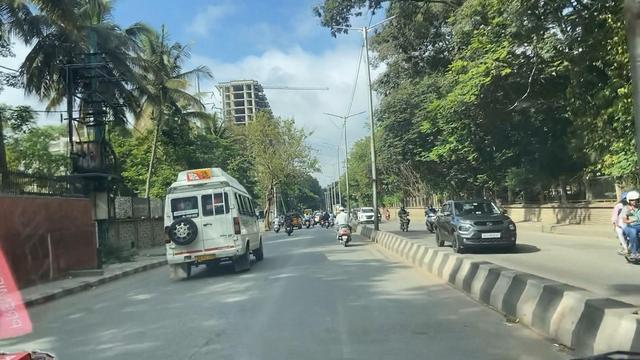HMV: (152, 167, 264, 271)
